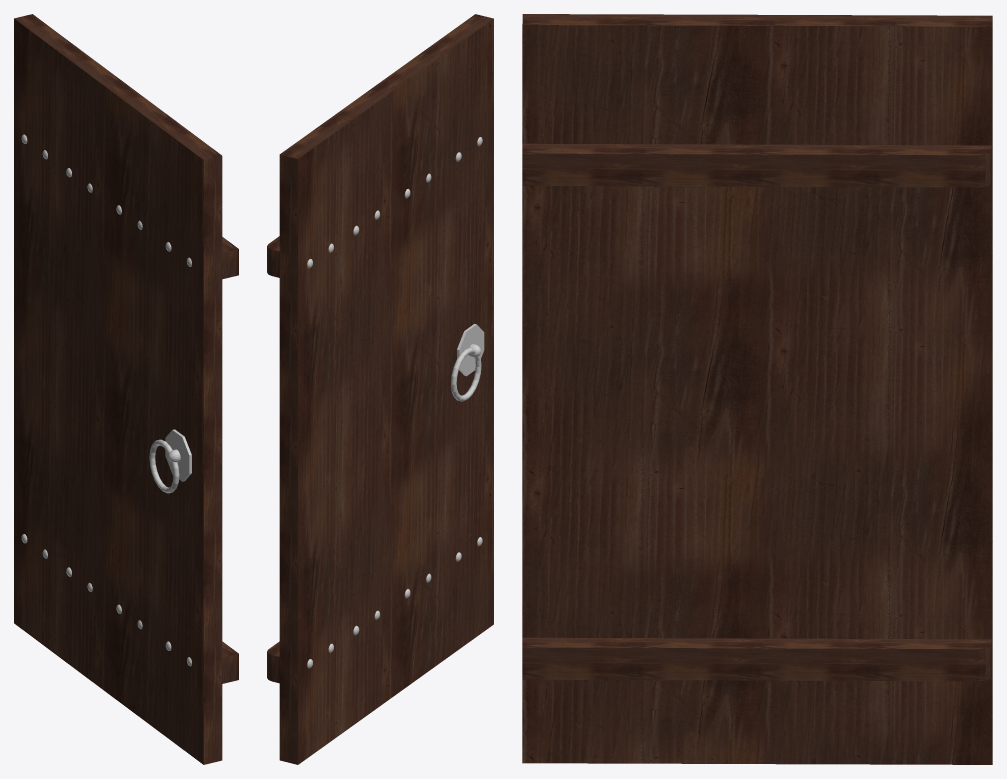
The model's file is SM_D_Gate_4.fbx.
3 views of the same model, side by side, from view 1: azimuth 30°, elevation 25°; view 2: azimuth 150°, elevation 25°; view 3: azimuth 270°, elevation 25° (orthographic). The views are drawn at different scales.
Parts seen in each view (by area): view 1: SM_D_Gate_4; view 2: SM_D_Gate_4; view 3: SM_D_Gate_4.
Part boxes in pixels (left/top/right/bottom): SM_D_Gate_4: left=14, top=14, right=238, bottom=764; SM_D_Gate_4: left=267, top=14, right=493, bottom=764; SM_D_Gate_4: left=522, top=14, right=992, bottom=764.
Size of the model in its own units: 16.73 by 115 by 199.
